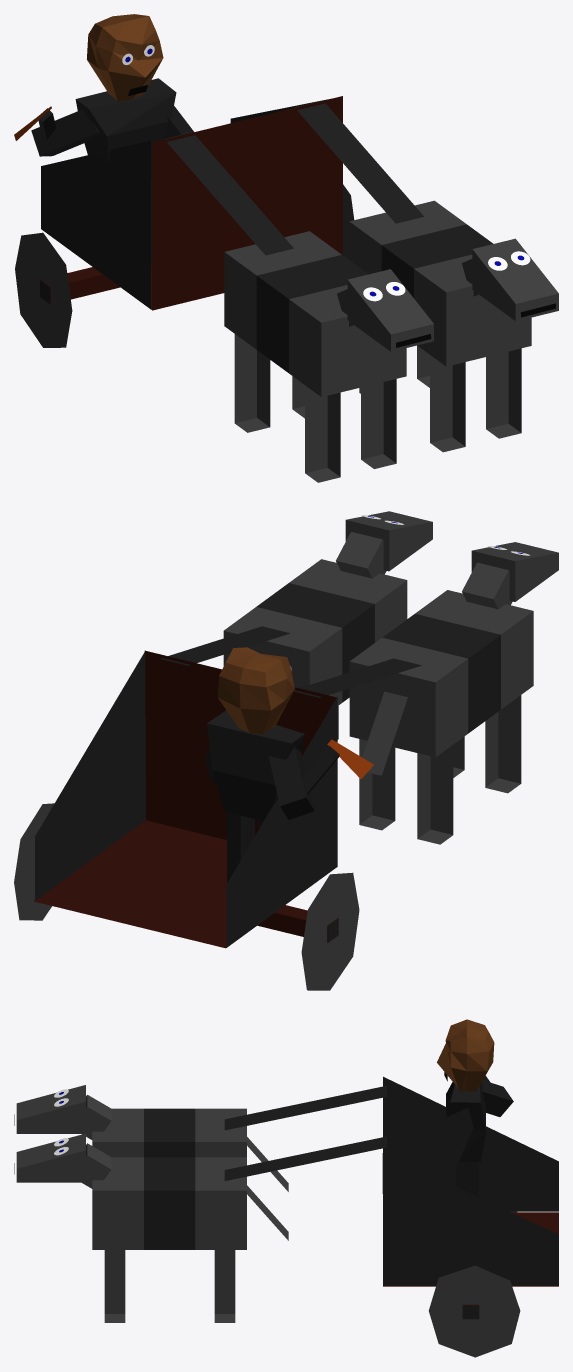
Rendered from lightchariot1fr.obj.
3 views of the same model, one above another, from view 1: azimuth 30°, elevation 25°; view 2: azimuth 150°, elevation 25°; view 3: azimuth 270°, elevation 25° (orthographic). The views are drawn at different scales.
Visible parts, largest first — view 1: Plane.005_Plane.006, Cube.015_Cube.017, Cube.006_Cube.009, Plane.003, Plane.007_Plane.008, Cube, Cube.001, Cube.021_Cube.023, Cube.014_Cube.016, Plane.012_Plane.013, Plane.013_Plane.014, Cube.019_Cube.021 (+6 smaller); view 2: Cube.015_Cube.017, Plane.002, Plane.005_Plane.006, Plane.004, Cube.006_Cube.009, Plane.003, Cube.001, Cube, Plane.007_Plane.008, Cube.016_Cube.018, Cube.019_Cube.021, Cube.014_Cube.016 (+13 smaller); view 3: Plane.004, Cube.006_Cube.009, Plane.003, Cube.015_Cube.017, Plane.006_Plane.007, Cube, Cube.014_Cube.016, Cube.021_Cube.023, Plane.012_Plane.013, Plane.013_Plane.014, Cube.001, Cube.010_Cube.012 (+7 smaller).
Boxes of the visible parts, box(x1,y1,x2,y2) form: Plane.005_Plane.006: box(152, 96, 342, 310); Cube.015_Cube.017: box(224, 231, 406, 396); Cube.006_Cube.009: box(349, 200, 531, 366); Plane.003: box(41, 140, 150, 309); Plane.007_Plane.008: box(15, 232, 72, 347); Cube: box(87, 14, 163, 101); Cube.001: box(75, 78, 176, 178); Cube.021_Cube.023: box(347, 269, 433, 351); Cube.014_Cube.016: box(472, 238, 558, 321); Plane.012_Plane.013: box(164, 132, 293, 255); Plane.013_Plane.014: box(294, 100, 424, 223); Cube.019_Cube.021: box(305, 385, 340, 482); Cube.015_Cube.017: box(349, 590, 533, 757); Plane.002: box(33, 820, 226, 948); Plane.005_Plane.006: box(144, 650, 336, 839); Plane.004: box(35, 652, 145, 900); Cube.006_Cube.009: box(223, 559, 407, 705); Plane.003: box(226, 696, 337, 947); Cube.001: box(206, 710, 304, 821); Cube: box(217, 647, 294, 734); Plane.007_Plane.008: box(301, 872, 359, 990); Cube.016_Cube.018: box(417, 745, 453, 844); Cube.019_Cube.021: box(485, 695, 521, 793); Cube.014_Cube.016: box(345, 511, 432, 571); Plane.004: box(382, 1153, 558, 1285); Cube.006_Cube.009: box(92, 1157, 246, 1249); Plane.003: box(383, 1076, 558, 1211); Cube.015_Cube.017: box(92, 1108, 246, 1157); Plane.006_Plane.007: box(428, 1265, 520, 1357); Cube: box(437, 1019, 494, 1091); Cube.014_Cube.016: box(16, 1133, 85, 1182); Cube.021_Cube.023: box(16, 1085, 85, 1133); Plane.012_Plane.013: box(224, 1085, 386, 1130); Plane.013_Plane.014: box(224, 1136, 386, 1180); Cube.001: box(446, 1082, 485, 1161); Cube.010_Cube.012: box(214, 1250, 235, 1322).
Size of the model in its own units: 8.17 by 7.5 by 14.9.
